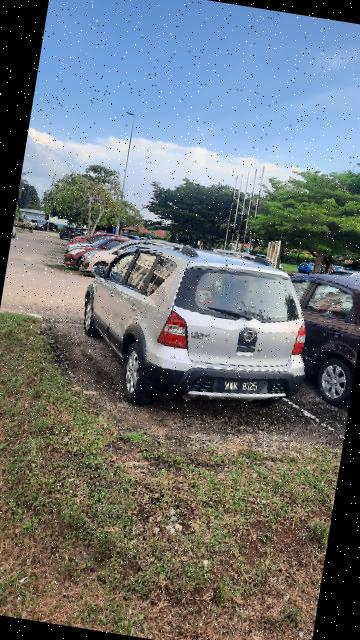License_Plate: (206, 373, 276, 402)
car: (71, 234, 326, 418), (266, 265, 360, 411)
